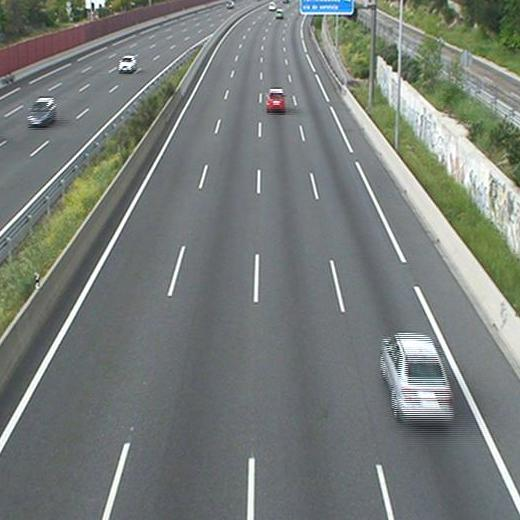car: (382, 334, 452, 419), (265, 89, 285, 109), (274, 11, 283, 19)
